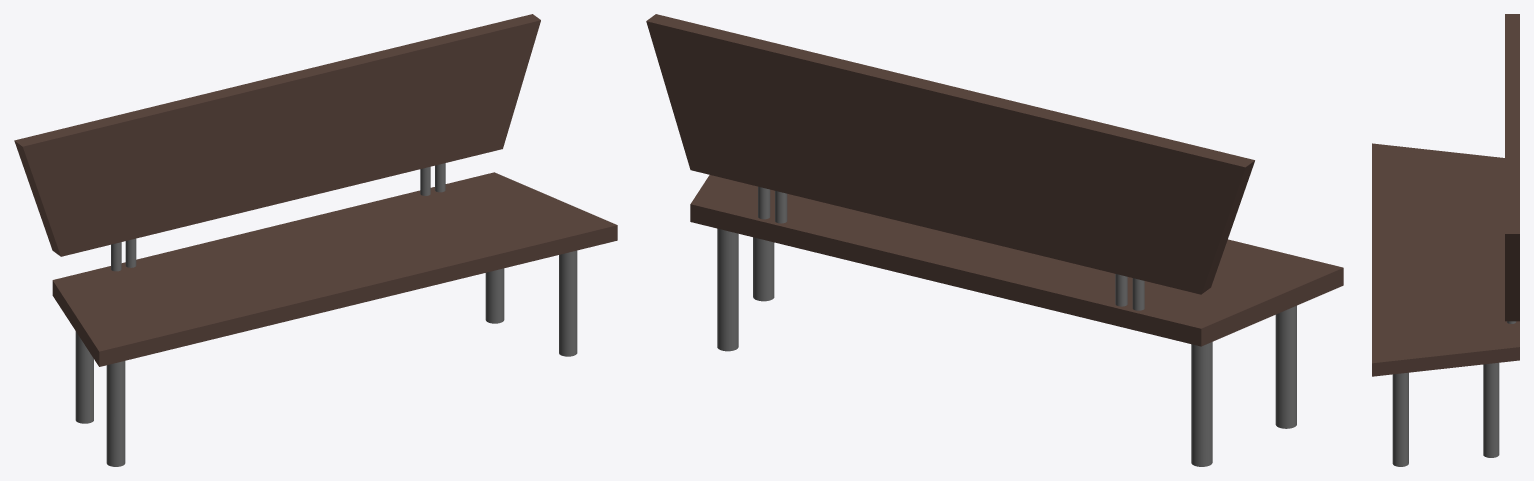
Rendered from BreadBaron_Bench.fbx.
The picture shows the model from 3 angles, left to right: view 1: azimuth 30°, elevation 25°; view 2: azimuth 150°, elevation 25°; view 3: azimuth 270°, elevation 25°; orthographic projection. The views are drawn at different scales.
Visible parts, largest first — view 1: pCube2, pCube1, pCylinder8, pCylinder9, pCylinder5, pCylinder6; view 2: pCube2, pCube1, pCylinder5, pCylinder6, pCylinder8, pCylinder9; view 3: pCube1, pCube2, pCylinder6, pCylinder9.
Boxes of the visible parts, bbox=[...] form: pCube2: bbox=[14, 14, 540, 256]; pCube1: bbox=[52, 172, 617, 366]; pCylinder8: bbox=[106, 361, 125, 466]; pCylinder9: bbox=[559, 250, 577, 356]; pCylinder5: bbox=[75, 331, 93, 423]; pCylinder6: bbox=[485, 268, 504, 323]; pCube2: bbox=[646, 14, 1254, 294]; pCube1: bbox=[690, 175, 1343, 346]; pCylinder5: bbox=[1191, 342, 1212, 466]; pCylinder6: bbox=[717, 228, 738, 351]; pCylinder8: bbox=[1275, 305, 1296, 428]; pCylinder9: bbox=[753, 237, 774, 301]; pCube1: bbox=[1372, 143, 1519, 376]; pCube2: bbox=[1505, 14, 1519, 321]; pCylinder6: bbox=[1483, 362, 1499, 457]; pCylinder9: bbox=[1392, 372, 1408, 466].
Bounding box in the file's own units: 3.52 × 1.82 × 1.
